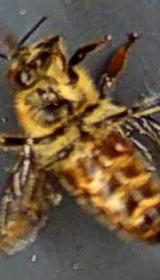varroa_mite: (104, 126, 138, 160)
